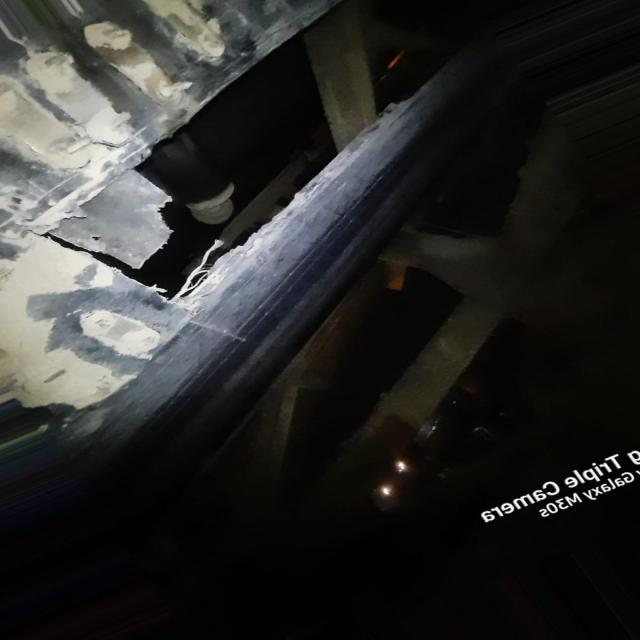Hole: (48, 1, 478, 299)
